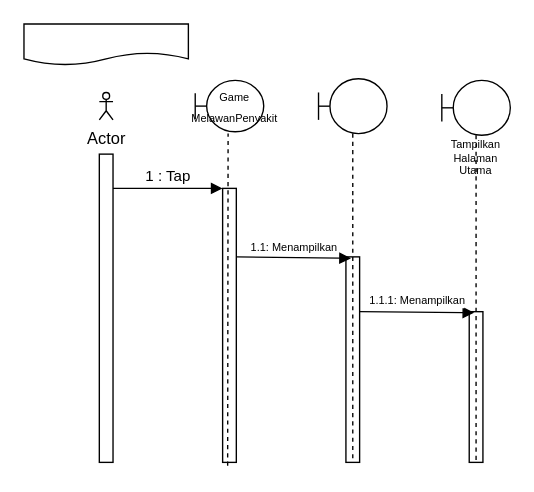
Some shapes in this 534 by 492 pixel diagram are drawn without their labels. Here are the shapes that lost their labels. From the top down, the centre of each, then its label:
At point (105, 44): "Sequence Menu Utama".
At point (352, 269): "Splash Screen Aplikasi".
